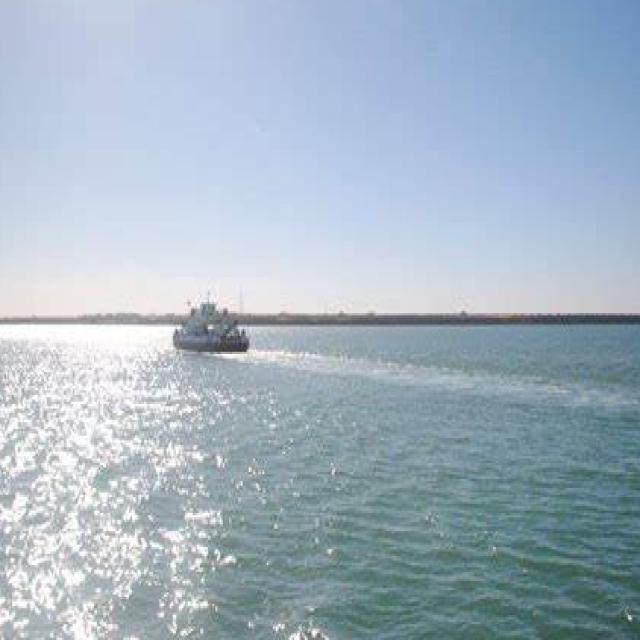houseboat: (170, 288, 246, 352)
